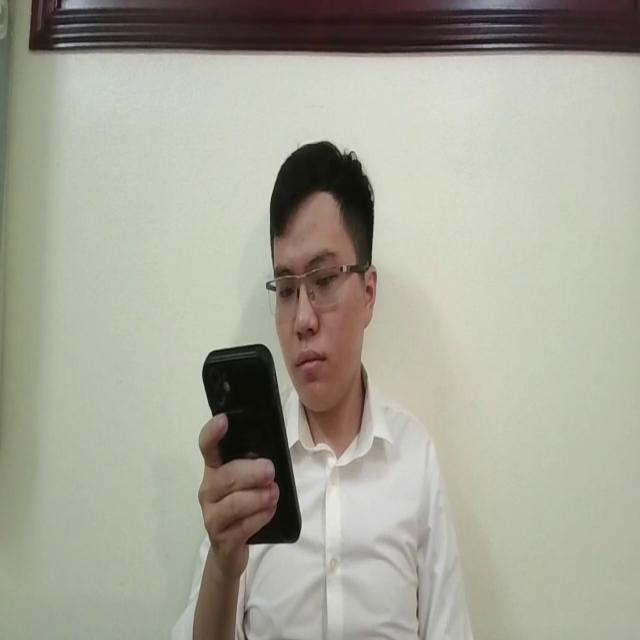phone: (201, 339, 302, 548)
student: (161, 137, 473, 640)
